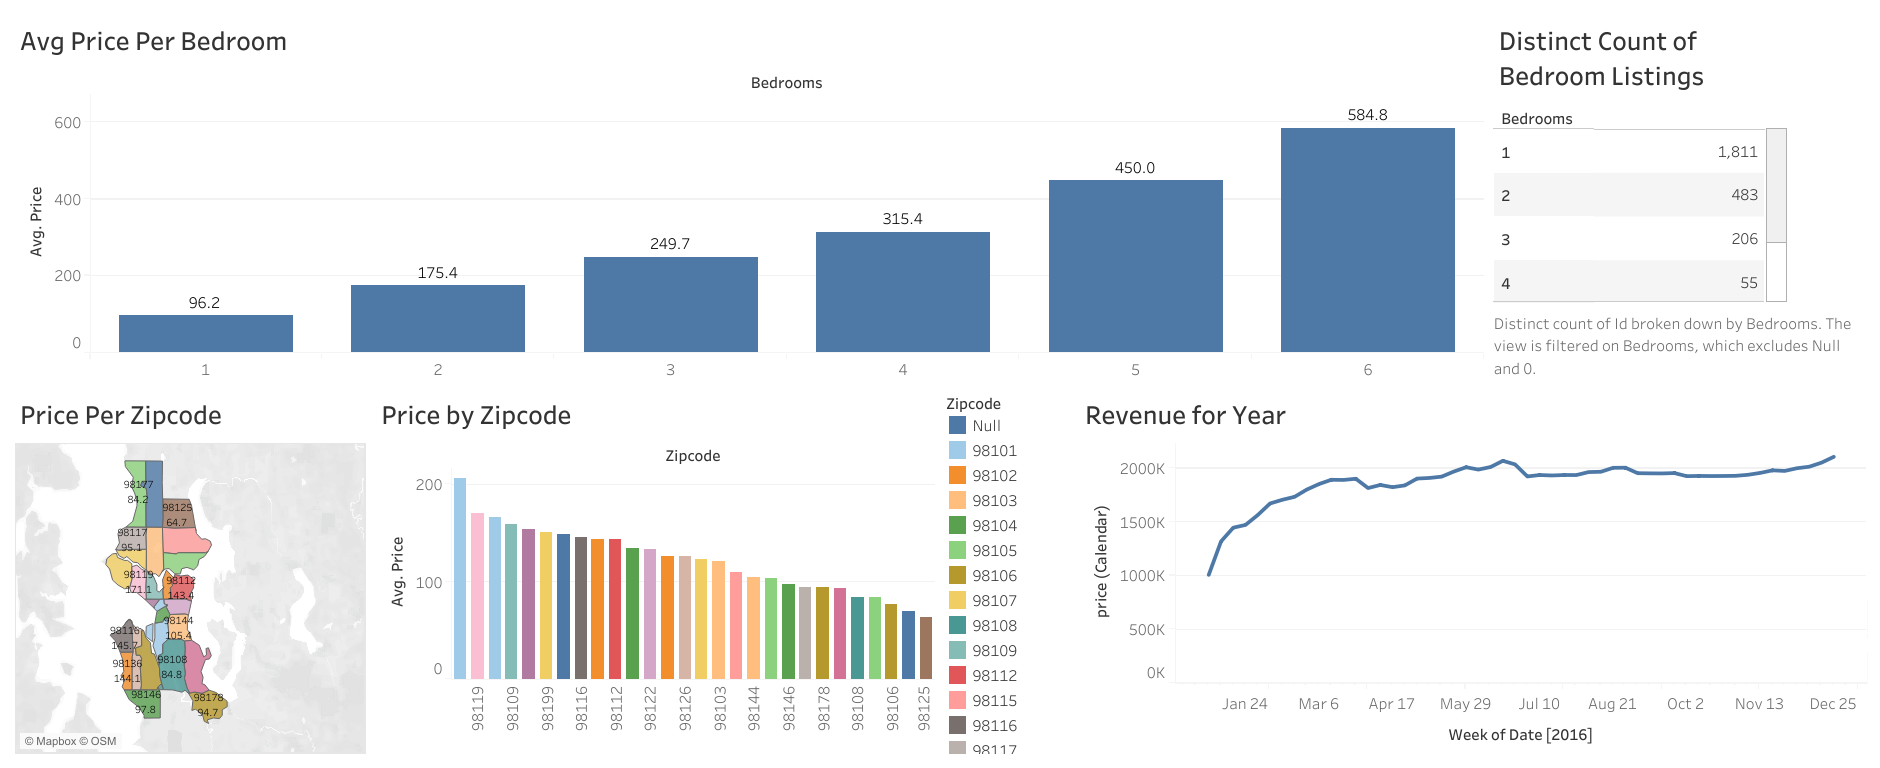

Layout of this report page (visuals, bound fields, positions):
{"tool":"tableau","page":{"name":"Dashboard 1","canvas":[1000,1000],"units":"permille","ordinal":0},"visuals":[{"type":"worksheet","title":"Sheet 4","mark":"Automatic","rows":["price"],"cols":["bedrooms"],"box":[4.8,9.4,787,490.6]},{"type":"worksheet","title":"Sheet 5","mark":"Automatic","rows":["bedrooms"],"box":[791.8,9.4,203.4,490.6]},{"type":"worksheet","title":"Sheet 2","mark":"Multipolygon","box":[4.8,500,192.5,490.6]},{"type":"worksheet","title":"Sheet 1","mark":"Automatic","rows":["price"],"cols":["zipcode"],"box":[197.3,500,302.4,490.6]},{"type":"legend","title":"Sheet 1","param":"[federated.1m87n341imuo9m11558zs1kc0svv].[none:zipcode:ok]","box":[499.7,500,71.8,490.6]},{"type":"worksheet","title":"Sheet 3","mark":"Automatic","rows":["price (Calendar)"],"cols":["date"],"box":[571.5,500,423.7,490.6]}]}

Visuals, with their boxes on the dashboard's canvas, which has no fixed pixel size, in thousandths of its width and height (x1, y1, x2, y2). These are canvas units, not pixel positions in the 1880x768 screenshot, which may show the page scaled, cropped or inside an application window:
"Sheet 4" worksheet: left=5, top=9, right=792, bottom=500
"Sheet 5" worksheet: left=792, top=9, right=995, bottom=500
"Sheet 2" worksheet (Multipolygon marks): left=5, top=500, right=197, bottom=991
"Sheet 1" worksheet: left=197, top=500, right=500, bottom=991
"Sheet 1" legend: left=500, top=500, right=572, bottom=991
"Sheet 3" worksheet: left=572, top=500, right=995, bottom=991
